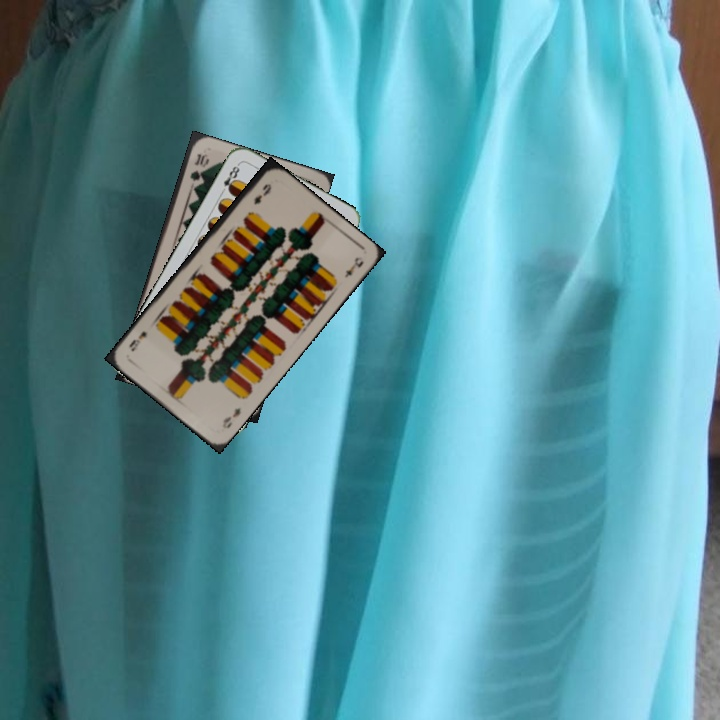E8: (217, 160, 242, 197)
E9: (218, 403, 243, 431), (250, 180, 274, 207)
G10: (186, 150, 209, 184)
